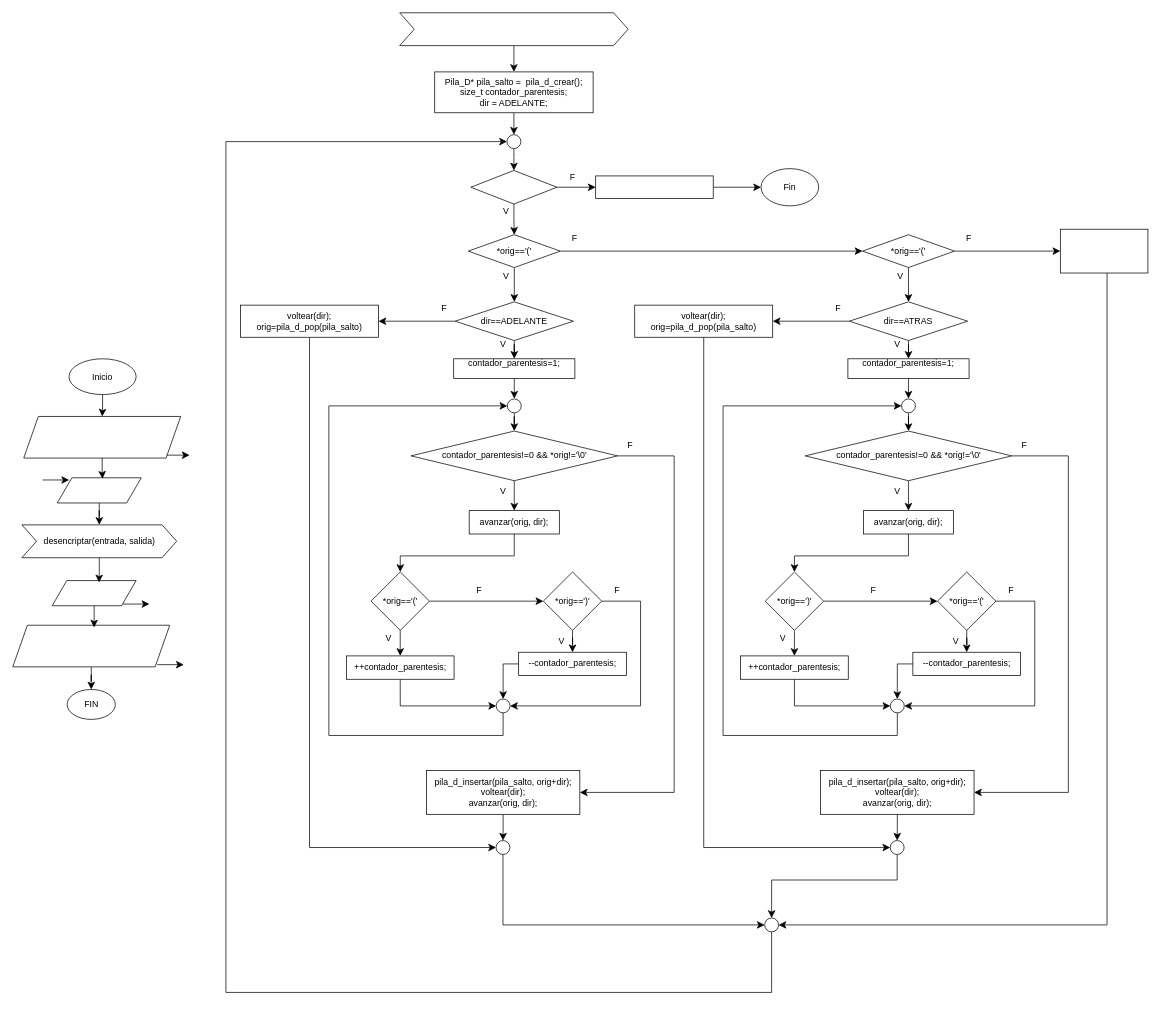
Image size: 1161x1013. Some labels were removed from this diagram. The box of each missing label's shape, as (x1, y1, x2, y2) in pixels:
"Desencriptacion de strings alrevezados con parentesis": (23, 416, 181, 458)
***Fin del programa***: (12, 625, 170, 667)
*dest=*orig; ++dest; avanzar(orig, dir);: (1060, 228, 1148, 273)
*orig!='\0': (470, 170, 557, 204)
entrada: (57, 477, 141, 503)
pila_d_destruir(pila_salto);: (595, 175, 713, 199)
salida: (51, 580, 136, 606)
void desencriptar(const char* orig, char* dest): (399, 12, 628, 46)
